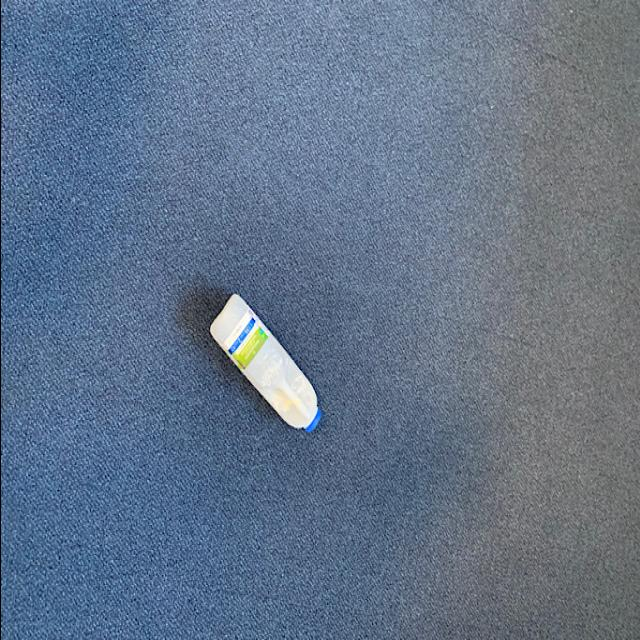HDPEM: (204, 294, 318, 436)
